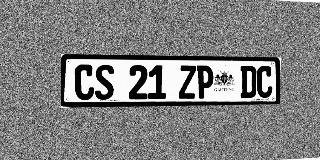1: (148, 65, 166, 99)
2: (129, 65, 147, 99)
C: (74, 64, 94, 100), (257, 66, 273, 98)
D: (240, 66, 256, 98)
P: (196, 65, 213, 99)
S: (95, 64, 114, 100)
Z: (179, 65, 196, 99)
